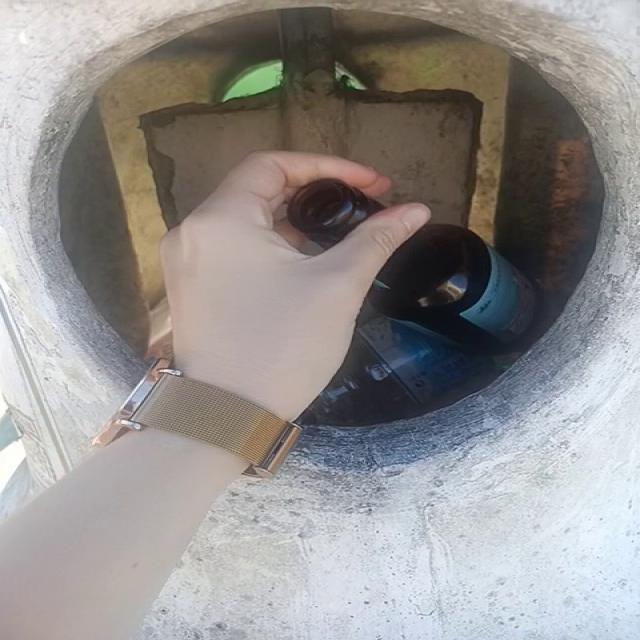glass: (368, 224, 537, 350), (288, 179, 384, 248)
